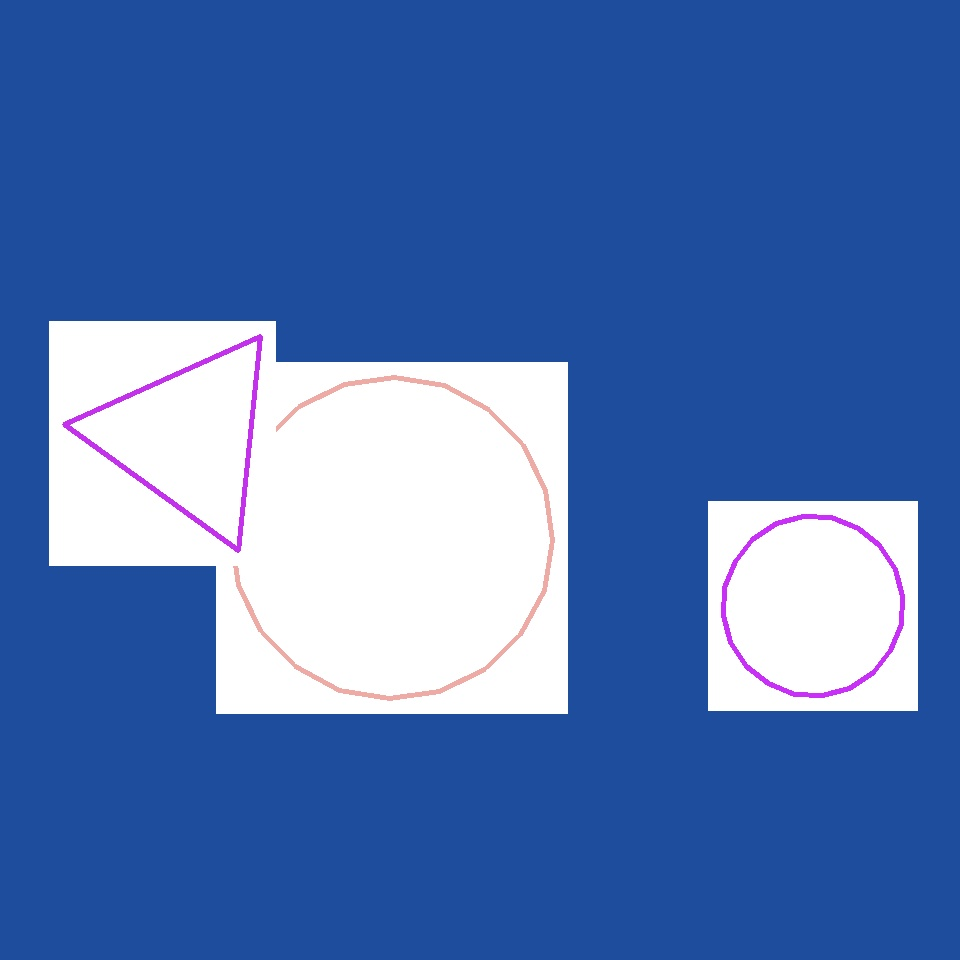circle: (263, 654, 527, 899), (90, 330, 286, 544), (431, 171, 605, 355)
square: (780, 196, 916, 332)
triangle: (228, 513, 588, 874), (232, 378, 552, 698), (724, 516, 903, 696)
